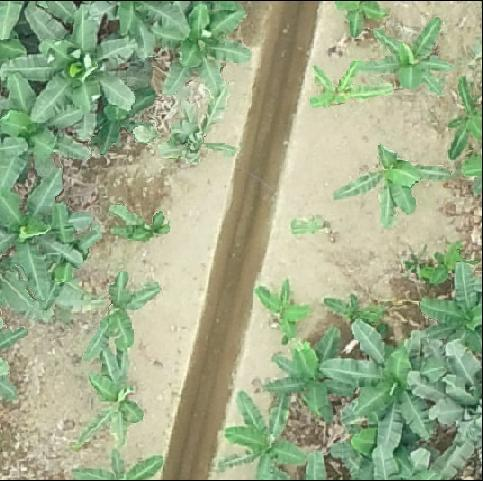Banana-plant: (0, 0, 146, 145), (320, 316, 455, 459), (0, 168, 85, 307), (404, 337, 483, 481), (329, 138, 458, 226), (0, 70, 94, 188), (263, 322, 365, 423), (155, 0, 251, 100), (132, 80, 239, 169), (217, 387, 317, 481), (67, 347, 149, 448), (356, 12, 453, 95), (77, 269, 160, 358), (419, 258, 483, 357), (251, 274, 315, 346), (308, 58, 380, 112), (443, 72, 483, 166), (100, 195, 172, 246), (66, 444, 165, 481), (335, 0, 392, 38)
